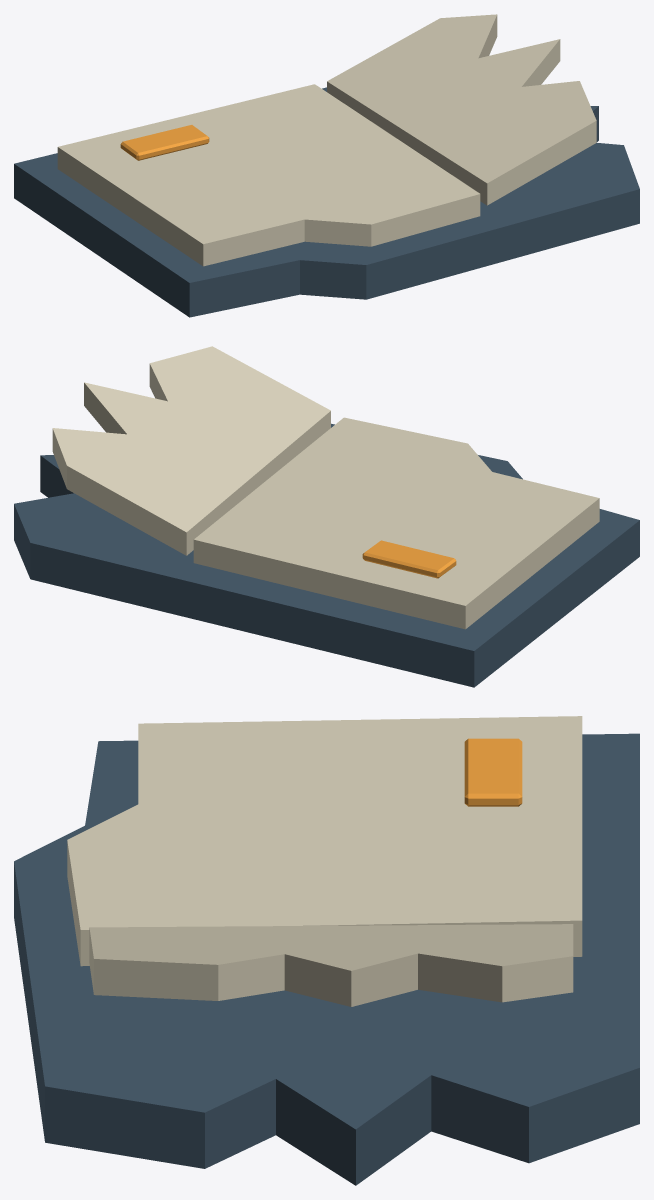
The model's file is survey-panel-debris.glb.
3 views of the same model, one above another, from view 1: azimuth 30°, elevation 25°; view 2: azimuth 150°, elevation 25°; view 3: azimuth 270°, elevation 25° (orthographic). The views are drawn at different scales.
Parts seen in each view (by area): view 1: survey-panel-debris; view 2: survey-panel-debris; view 3: survey-panel-debris.
Part boxes in pixels (x1,y1,x2,y2): survey-panel-debris: (14,14,639,317); survey-panel-debris: (14,346,639,687); survey-panel-debris: (14,716,639,1185).
Size of the model in its own units: 2.11 by 0.455 by 1.41.
1 material, 1 textured.
